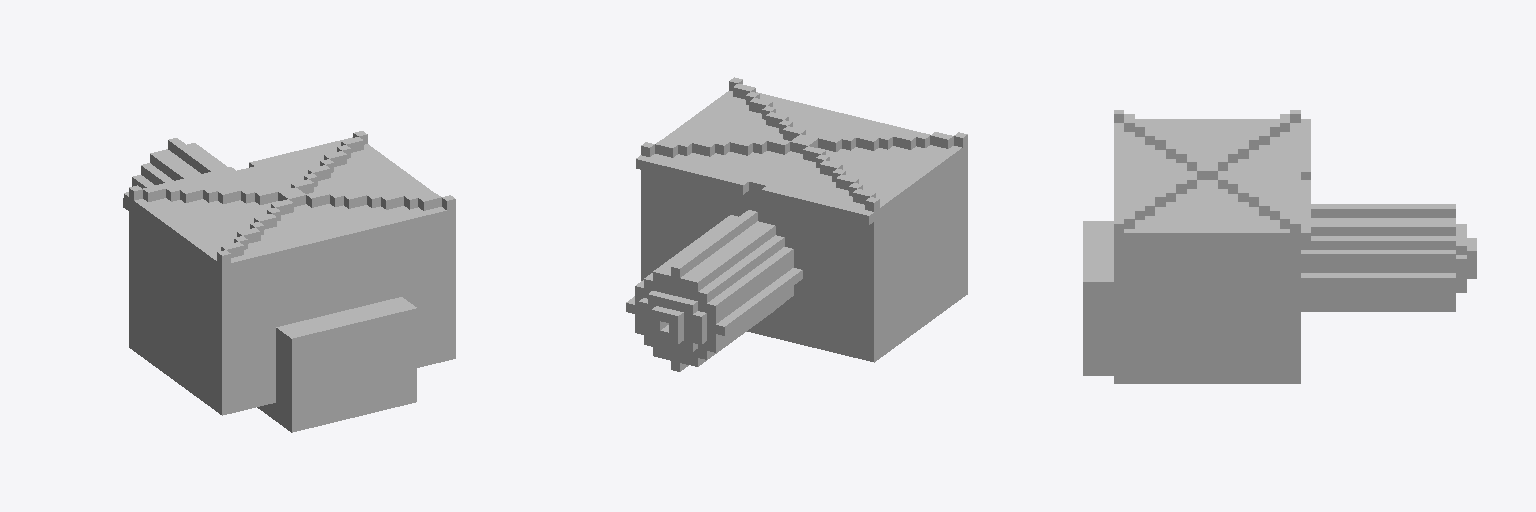
File: Flamethrower head.obj
3 renders of one model, left to right at view 1: azimuth 30°, elevation 25°; view 2: azimuth 150°, elevation 25°; view 3: azimuth 270°, elevation 25°, orthographic.
Visible parts, largest first — view 1: object 1; view 2: object 1; view 3: object 1.
Boxes of the visible parts, x1=… form: object 1: x1=123, y1=131, x2=455, y2=432; object 1: x1=626, y1=77, x2=967, y2=371; object 1: x1=1083, y1=110, x2=1476, y2=383.
Bounding box in the file's own units: 2.6 × 1.9 × 3.8.